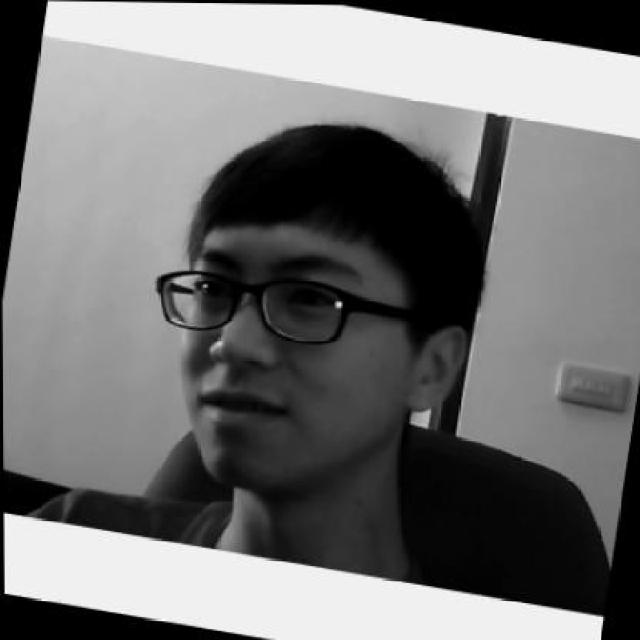attentif: (121, 89, 497, 518)
